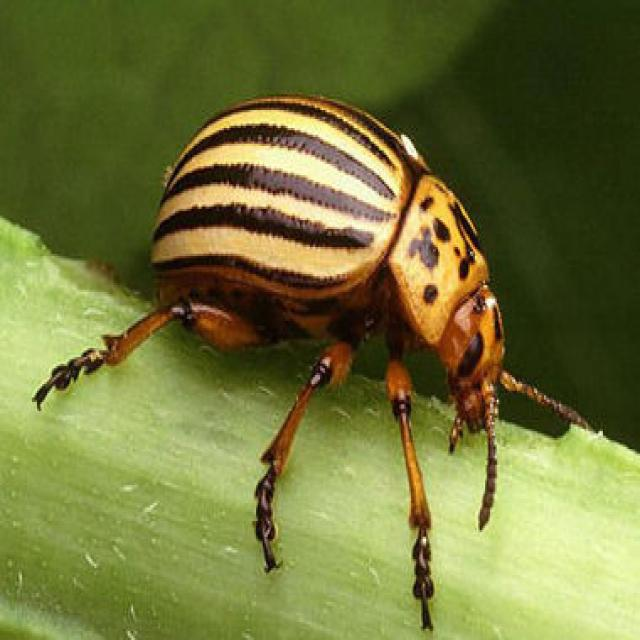ShuCaiHuaBanChong-Grown-: (108, 59, 564, 519)
